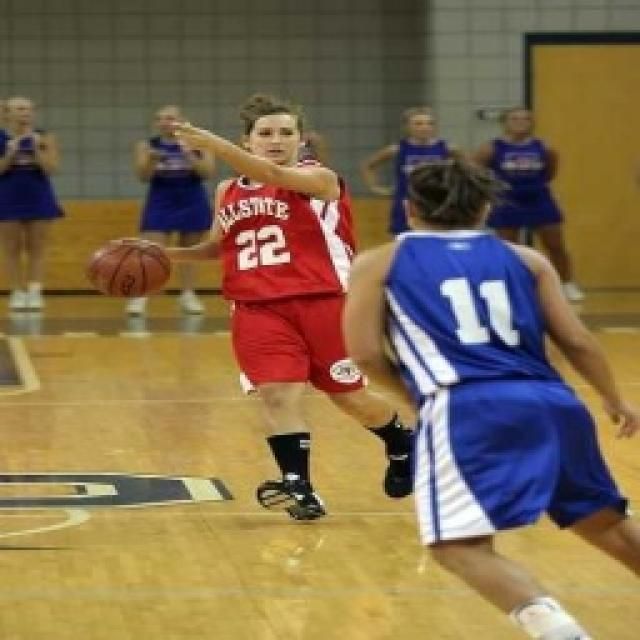rim: (83, 238, 177, 300)
